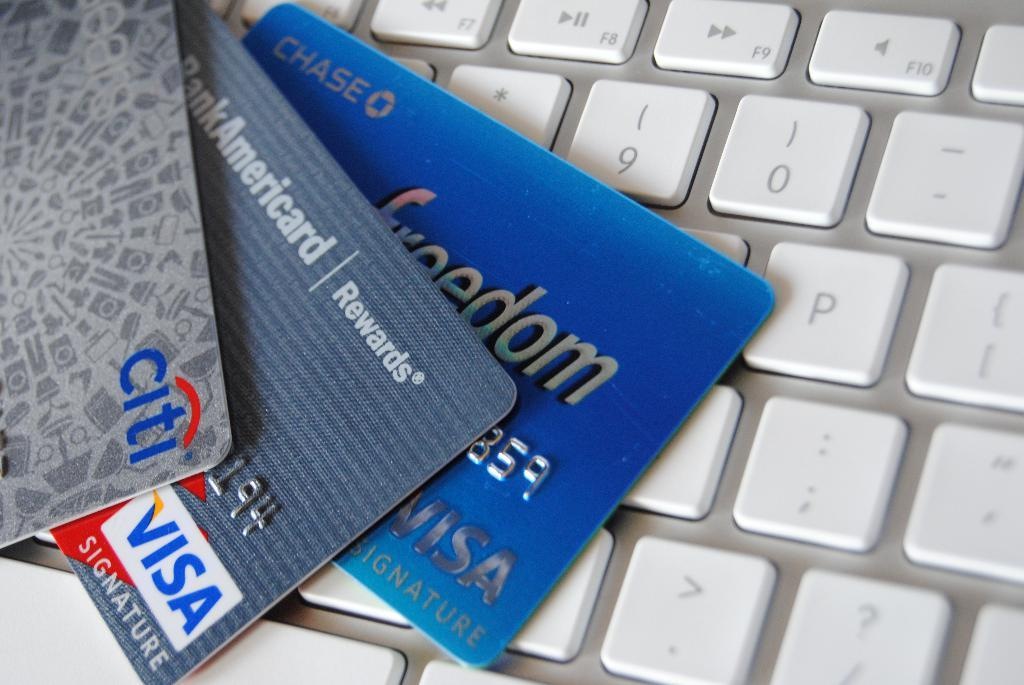Computer-keyboard: (0, 0, 1023, 684)
Laptop: (0, 1, 1023, 684)
